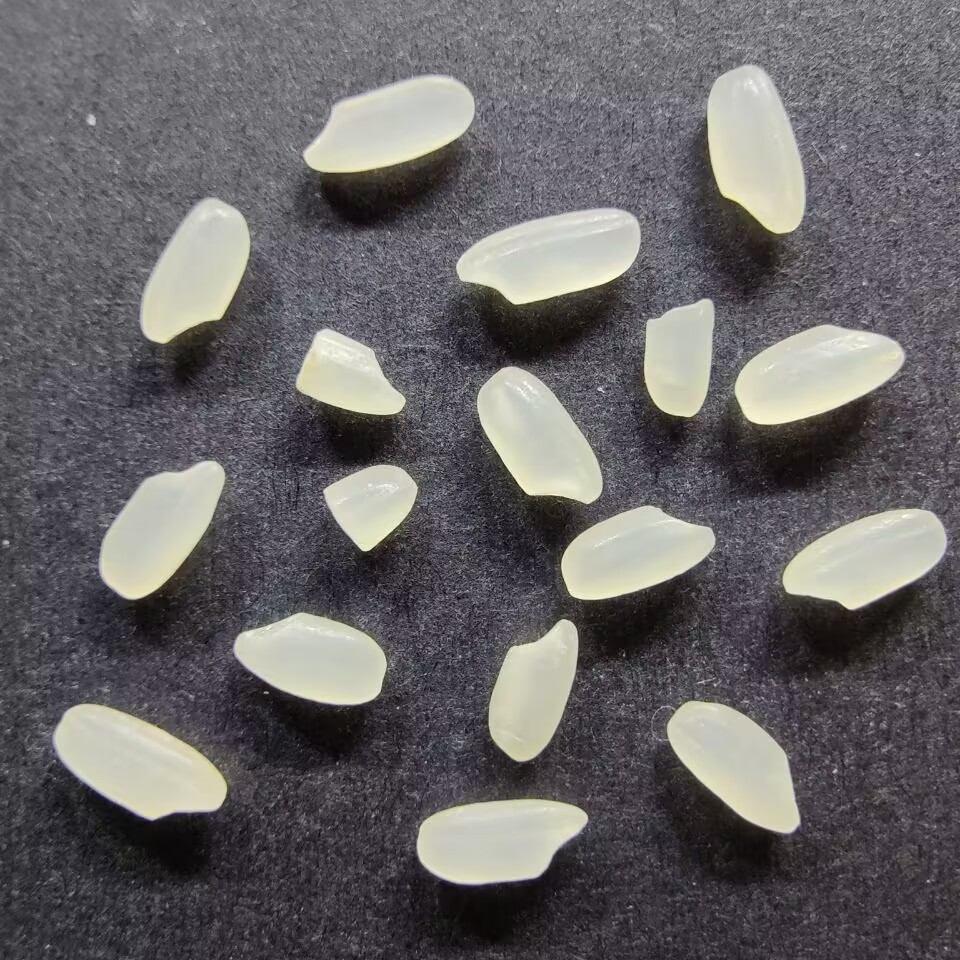broken: (294, 325, 406, 417), (642, 297, 716, 417), (322, 462, 418, 553)
rice: (50, 703, 228, 823), (664, 699, 803, 835), (97, 458, 229, 601), (454, 207, 641, 305), (476, 365, 606, 505), (704, 62, 807, 236), (731, 324, 906, 426), (300, 73, 475, 174), (781, 507, 949, 610), (138, 198, 251, 346), (560, 503, 716, 601), (417, 798, 590, 886), (231, 613, 386, 706), (486, 616, 581, 763)
